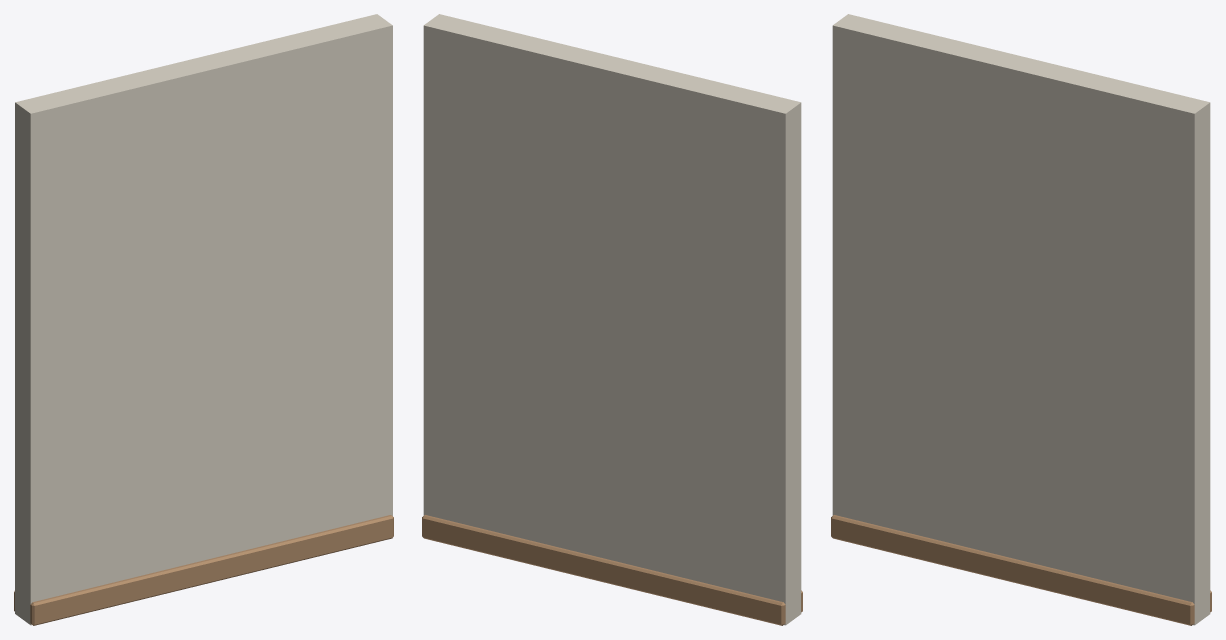
Rendered from cozy-home-interiors-wall-straight-2m-c96dba78.glb.
The picture shows the model from 3 angles, left to right: view 1: azimuth 30°, elevation 25°; view 2: azimuth 150°, elevation 25°; view 3: azimuth 330°, elevation 25°; orthographic projection.
Parts seen in each view (by area): view 1: wall-straight-2m; view 2: wall-straight-2m; view 3: wall-straight-2m.
Part boxes in pixels (box(x1,y1,x2,y2)): wall-straight-2m: box(14, 14, 393, 625); wall-straight-2m: box(422, 14, 802, 625); wall-straight-2m: box(831, 14, 1211, 625).
Size of the model in its own units: 2 by 2.7 by 0.1951.
